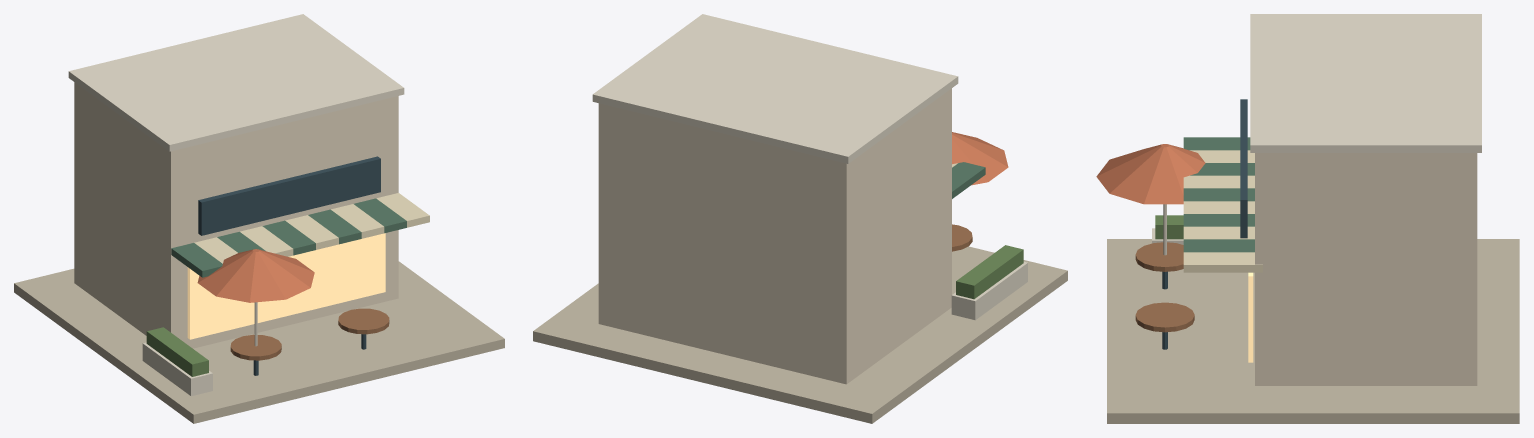
The model's file is cafe_lod.glb.
3 renders of one model, left to right at view 1: azimuth 30°, elevation 25°; view 2: azimuth 150°, elevation 25°; view 3: azimuth 270°, elevation 25°, orthographic. The views are drawn at different scales.
Parts seen in each view (by area): view 1: cafe_Building_Volume, cafe_Site_Paving, cafe_Roof_Coping, cafe_Storefront, cafe_Sign_Backplate, cafe_Cafe_Umbrella, cafe_Hedge, cafe_Raised_Planter, cafe_Cafe_Table.001, cafe_Cafe_Table, cafe_Striped_Awning, cafe_Striped_Awning.007 (+8 smaller); view 2: cafe_Building_Volume, cafe_Roof_Coping, cafe_Site_Paving, cafe_Hedge, cafe_Raised_Planter, cafe_Cafe_Umbrella, cafe_Striped_Awning; view 3: cafe_Building_Volume, cafe_Site_Paving, cafe_Roof_Coping, cafe_Cafe_Umbrella, cafe_Striped_Awning.009, cafe_Cafe_Table.001, cafe_Cafe_Table, cafe_Sign_Backplate, cafe_Striped_Awning.008, cafe_Striped_Awning.007, cafe_Striped_Awning.004, cafe_Striped_Awning.003 (+7 smaller).
Boxes of the visible parts, <box> form: cafe_Building_Volume: <box>74,82,398,348</box>; cafe_Site_Paving: <box>14,261,504,423</box>; cafe_Roof_Coping: <box>68,14,404,151</box>; cafe_Storefront: <box>187,233,385,339</box>; cafe_Sign_Backplate: <box>198,156,380,235</box>; cafe_Cafe_Umbrella: <box>197,249,314,302</box>; cafe_Hedge: <box>146,327,208,376</box>; cafe_Raised_Planter: <box>142,342,212,396</box>; cafe_Cafe_Table.001: <box>338,308,389,334</box>; cafe_Cafe_Table: <box>230,334,281,360</box>; cafe_Striped_Awning: <box>171,243,222,277</box>; cafe_Striped_Awning.007: <box>331,204,384,238</box>; cafe_Building_Volume: <box>598,88,951,384</box>; cafe_Roof_Coping: <box>592,14,958,163</box>; cafe_Site_Paving: <box>533,246,1067,423</box>; cafe_Hedge: <box>956,245,1023,299</box>; cafe_Raised_Planter: <box>951,261,1027,320</box>; cafe_Cafe_Umbrella: <box>952,132,1008,185</box>; cafe_Striped_Awning: <box>952,162,985,198</box>; cafe_Building_Volume: <box>1255,153,1477,385</box>; cafe_Site_Paving: <box>1107,239,1519,423</box>; cafe_Roof_Coping: <box>1250,14,1481,152</box>; cafe_Cafe_Umbrella: <box>1096,144,1205,204</box>; cafe_Striped_Awning.009: <box>1183,252,1262,272</box>; cafe_Cafe_Table.001: <box>1135,302,1194,332</box>; cafe_Cafe_Table: <box>1135,242,1183,271</box>; cafe_Sign_Backplate: <box>1240,99,1247,238</box>; cafe_Striped_Awning.008: <box>1183,239,1254,252</box>; cafe_Striped_Awning.007: <box>1183,226,1254,239</box>; cafe_Striped_Awning.004: <box>1183,188,1254,201</box>; cafe_Striped_Awning.003: <box>1183,175,1254,188</box>.
Bounding box in the file's own units: 7.8 × 5.36 × 8.
